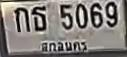0: (75, 3, 87, 28)
5: (59, 3, 72, 29)
6: (90, 2, 102, 27)
9: (104, 1, 116, 26)
A01: (14, 6, 30, 32)
A24: (31, 6, 46, 30)
SNK: (39, 40, 90, 53)
